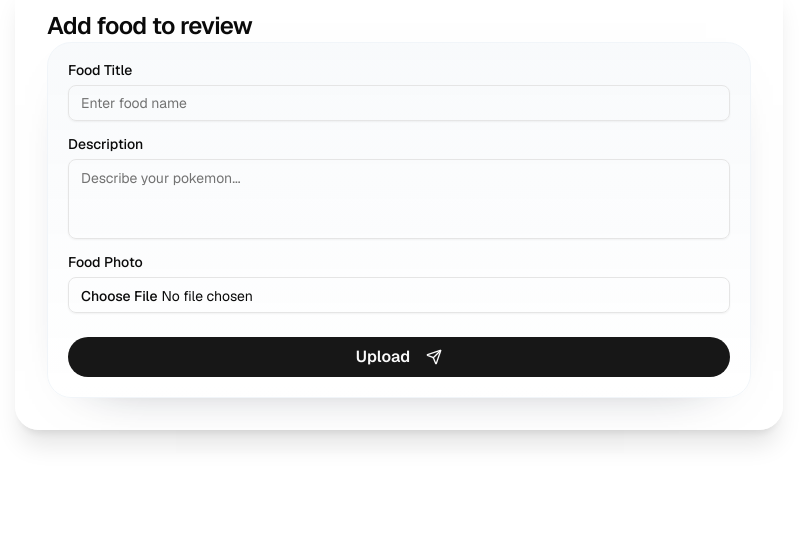
Test: FormFood › shows validation error if title is left blank
Click the button "Upload" at (399, 357), box [68, 337, 730, 377]
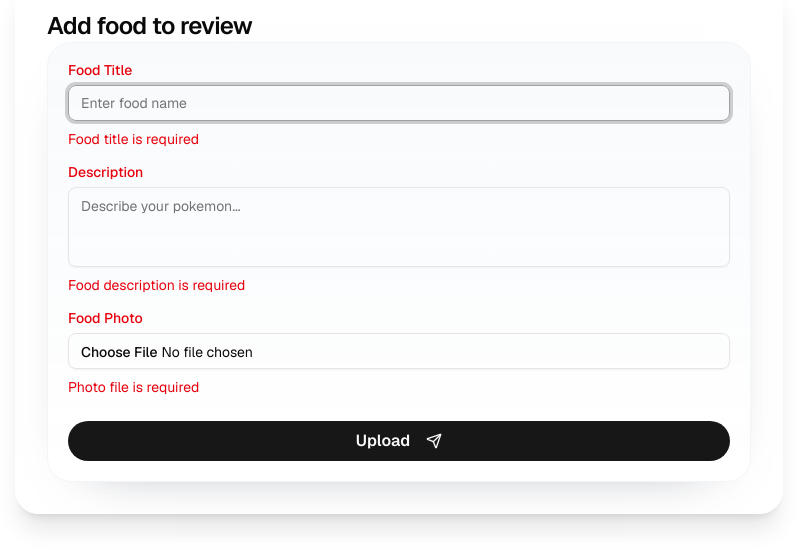
Result: the text "Food title is required" is shown at [68, 130, 199, 148]
